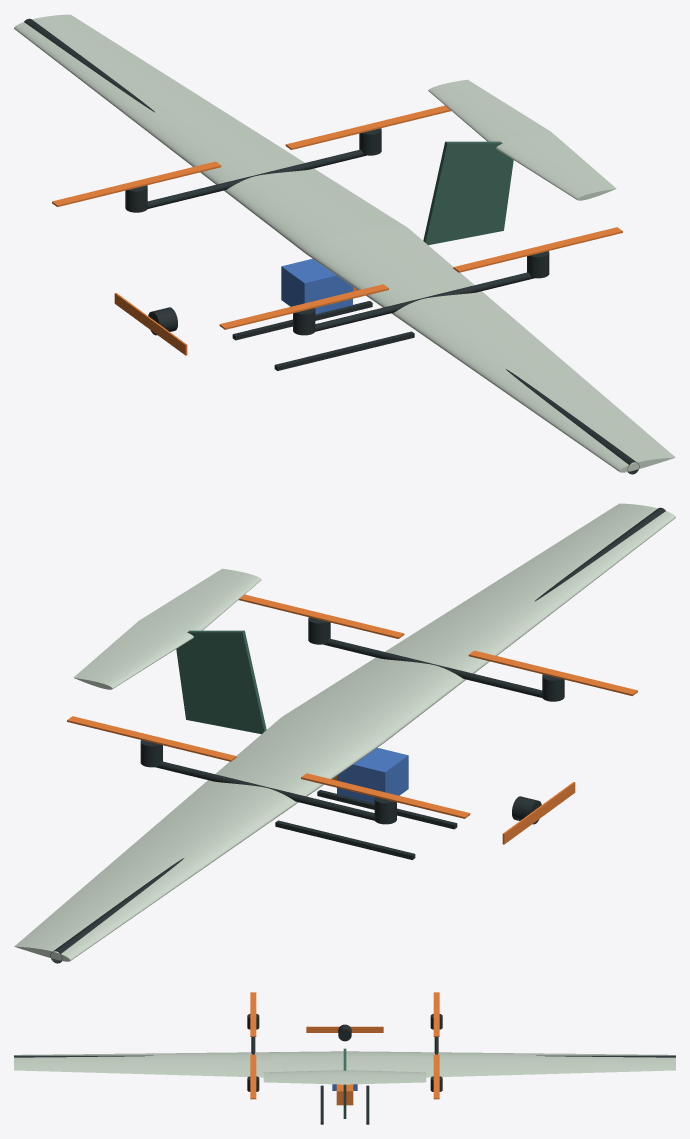
File: 05-internal.glb
The picture shows the model from 3 angles, top to bottom: view 1: azimuth 30°, elevation 25°; view 2: azimuth 150°, elevation 25°; view 3: azimuth 270°, elevation 25°; orthographic projection. The views are drawn at different scales.
Parts seen in each view (by area): view 1: wing-1, wing1, fin, tail-1, tail1, payload, wing_spar, boom1, boom-1, prop_-1_120.0, prop_-1_700.0, prop_1_120.0 (+4 smaller); view 2: wing1, wing-1, fin, tail1, tail-1, payload, wing_spar, boom-1, boom1, prop_1_120.0, prop_1_700.0, prop_-1_120.0 (+4 smaller); view 3: wing-1, wing1, tail-1, tail1, wing_spar, cruise_prop, battery, prop_-1_700.0, prop_1_700.0, prop_-1_120.0, prop_1_120.0, fin.
Boxes of the visible parts, x1,y1,x2,y2 form: wing-1: [305, 227, 675, 472]; wing1: [14, 14, 407, 252]; fin: [423, 141, 513, 245]; tail-1: [496, 131, 616, 200]; tail1: [428, 79, 550, 142]; payload: [281, 258, 352, 314]; wing_spar: [24, 18, 639, 474]; boom1: [147, 149, 366, 208]; boom-1: [315, 272, 534, 331]; prop_-1_120.0: [219, 284, 388, 329]; prop_-1_700.0: [453, 227, 622, 272]; prop_1_120.0: [52, 161, 221, 206]; wing1: [14, 716, 384, 961]; wing-1: [282, 503, 675, 741]; fin: [176, 630, 266, 734]; tail1: [73, 620, 193, 689]; tail-1: [139, 568, 261, 631]; payload: [337, 747, 408, 803]; wing_spar: [50, 507, 665, 963]; boom-1: [323, 638, 542, 697]; boom1: [155, 761, 374, 820]; prop_1_120.0: [301, 773, 470, 818]; prop_1_700.0: [67, 716, 236, 761]; prop_-1_120.0: [468, 650, 637, 695]; wing-1: [14, 1051, 343, 1077]; wing1: [346, 1051, 675, 1077]; tail-1: [263, 1070, 344, 1084]; tail1: [345, 1070, 426, 1084]; wing_spar: [14, 1055, 675, 1057]; cruise_prop: [306, 1026, 383, 1032]; battery: [336, 1084, 353, 1105]; prop_-1_700.0: [250, 1054, 256, 1099]; prop_1_700.0: [433, 1054, 439, 1099]; prop_-1_120.0: [250, 992, 256, 1036]; prop_1_120.0: [433, 992, 439, 1036]; fin: [343, 1048, 346, 1118].
Bounding box in the file's own units: 1023 × 393 × 2600.
